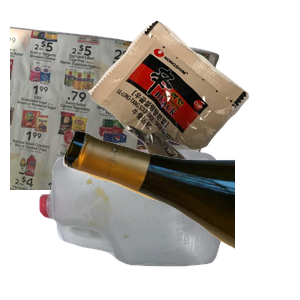glass: (60, 128, 300, 300)
paper: (10, 21, 222, 201)
plastic: (37, 147, 254, 300)
trash: (86, 18, 300, 194)
